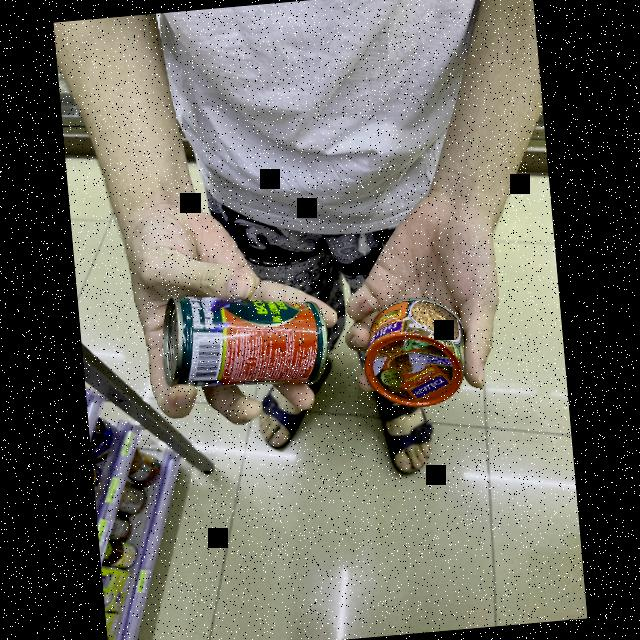can: (148, 286, 338, 386), (352, 298, 487, 412)
